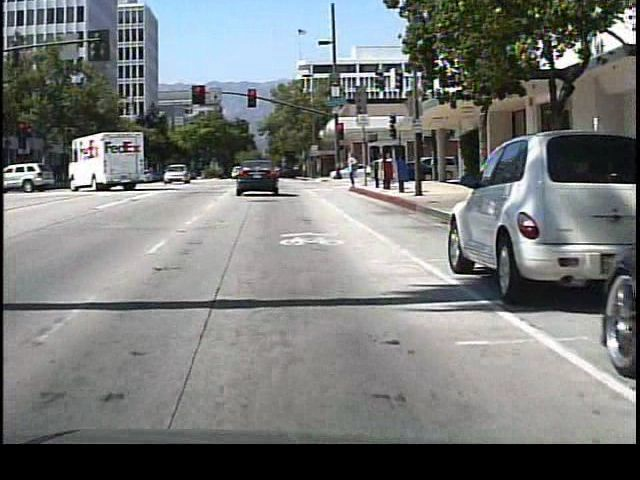person: (344, 150, 364, 194)
